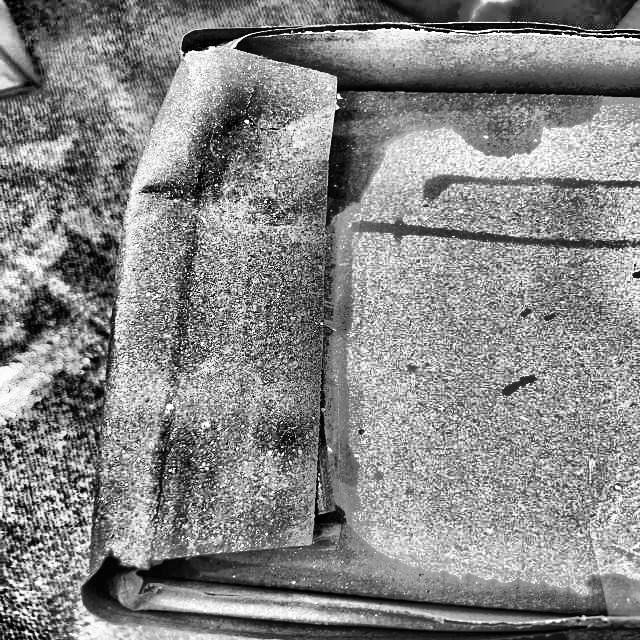box: (78, 26, 639, 639)
wet: (97, 27, 362, 625)
